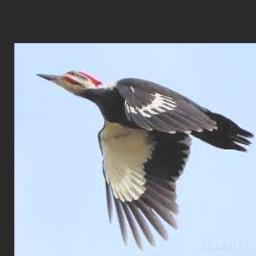Woodpecker: (35, 70, 254, 251)
